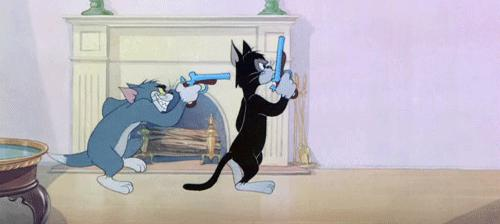tom: (46, 77, 204, 195)
